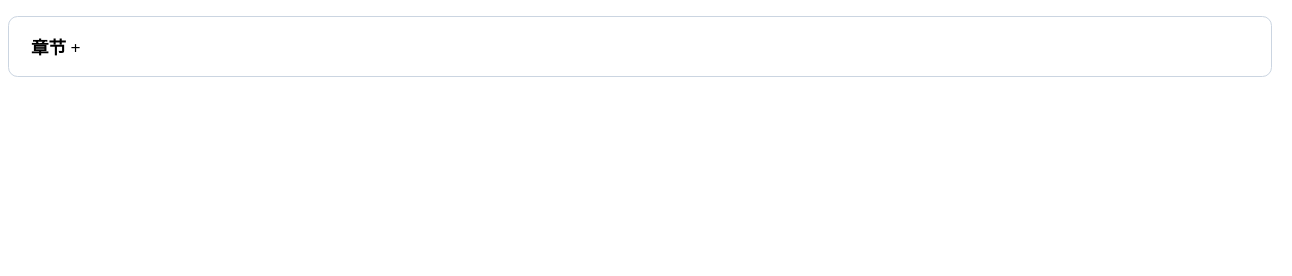
it: uses defaultExpanded only for each mount and does not collapse a non-collapsible section
Later steps or results of the test are not shown.
Click the button "章节 +".
click(56, 46)  # box [25,33,87,60]
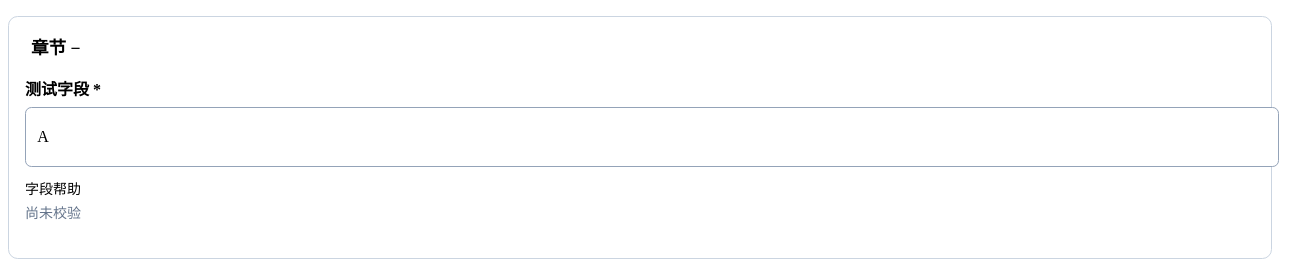
Expected: the field holds "A", [25,107,1279,167]
